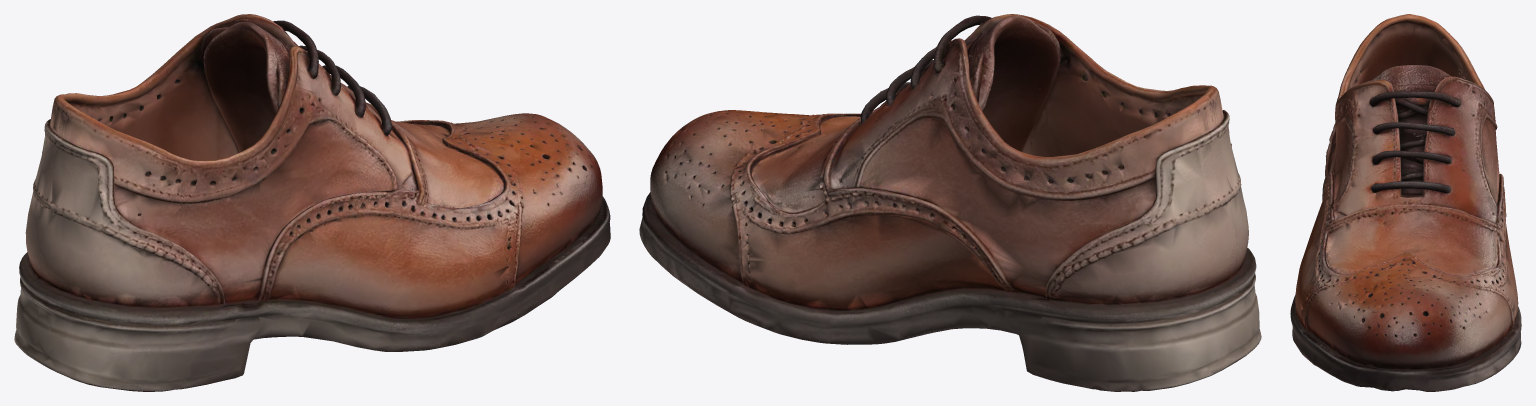
File: brogues.glb
3 views of the same model, side by side, from view 1: azimuth 30°, elevation 25°; view 2: azimuth 150°, elevation 25°; view 3: azimuth 270°, elevation 25° (orthographic). The views are drawn at different scales.
Visible parts, largest first — view 1: tripo_node_782cc582-b2c0-4087-a777-7d2bdeb966dc; view 2: tripo_node_782cc582-b2c0-4087-a777-7d2bdeb966dc; view 3: tripo_node_782cc582-b2c0-4087-a777-7d2bdeb966dc.
Part boxes in pixels (<box>): tripo_node_782cc582-b2c0-4087-a777-7d2bdeb966dc: <box>14,14,610,391</box>; tripo_node_782cc582-b2c0-4087-a777-7d2bdeb966dc: <box>639,14,1261,391</box>; tripo_node_782cc582-b2c0-4087-a777-7d2bdeb966dc: <box>1290,14,1521,391</box>.
Size of the model in its own units: 0.9998 by 0.4874 by 0.4578.
1 material, 1 textured.
